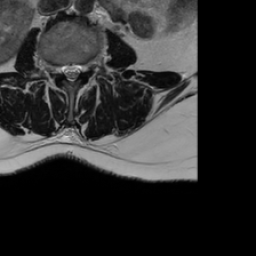CCS_normal: (68, 54, 75, 88)
LFS_normal: (83, 54, 91, 78)
LLS_normal: (75, 54, 83, 83)
RFS_normal: (52, 56, 60, 81)
RLS_normal: (60, 57, 68, 83)
